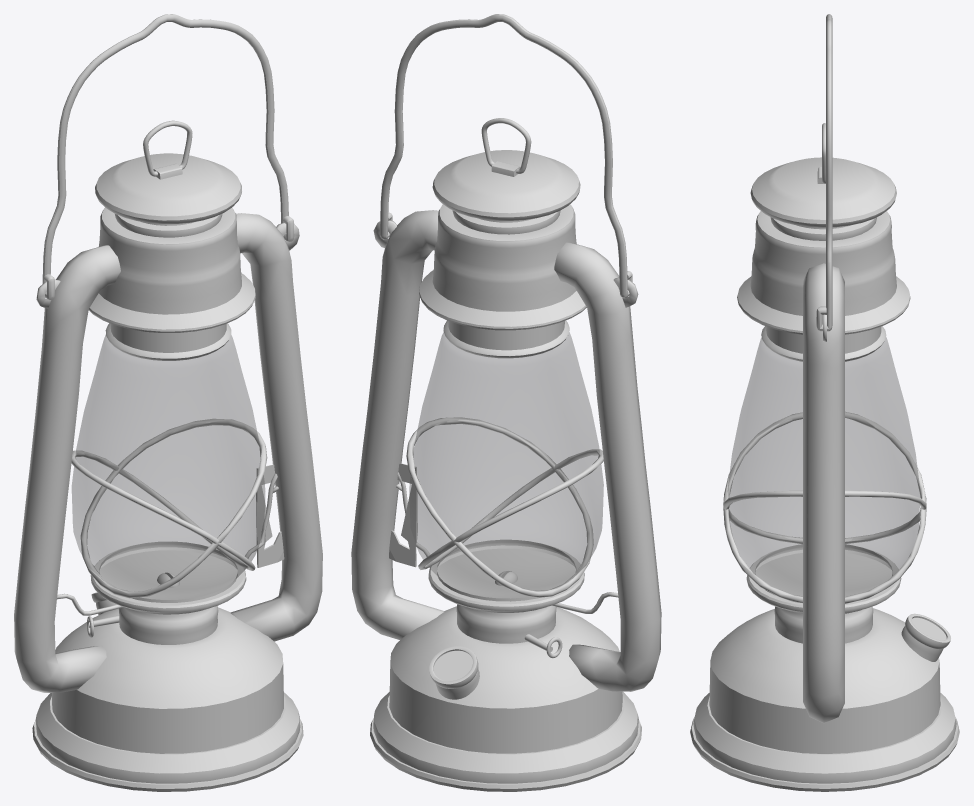
The model's file is kerosene_lantern.glb.
The picture shows the model from 3 angles, left to right: view 1: azimuth 30°, elevation 25°; view 2: azimuth 150°, elevation 25°; view 3: azimuth 270°, elevation 25°; orthographic projection.
Parts seen in each view (by area): view 1: Lantern Body, Air Tubes, Glass Globe, Bail, Top Ring; view 2: Lantern Body, Air Tubes, Glass Globe, Bail, Top Ring; view 3: Lantern Body, Glass Globe, Air Tubes, Bail.
Part boxes in pixels (<box>): Lantern Body: <box>32,153,303,791</box>; Air Tubes: <box>14,213,322,692</box>; Glass Globe: <box>72,335,265,599</box>; Bail: <box>42,14,294,300</box>; Top Ring: <box>143,120,192,176</box>; Lantern Body: <box>370,150,641,791</box>; Air Tubes: <box>351,210,661,691</box>; Glass Globe: <box>409,332,603,598</box>; Bail: <box>380,14,632,298</box>; Top Ring: <box>481,118,531,173</box>; Lantern Body: <box>690,157,959,791</box>; Glass Globe: <box>727,337,919,596</box>; Air Tubes: <box>723,263,926,722</box>; Bail: <box>816,14,832,331</box>.
Bounding box in the file's own units: 0.133 × 0.2999 × 0.1027.
2 materials, 1 textured.
